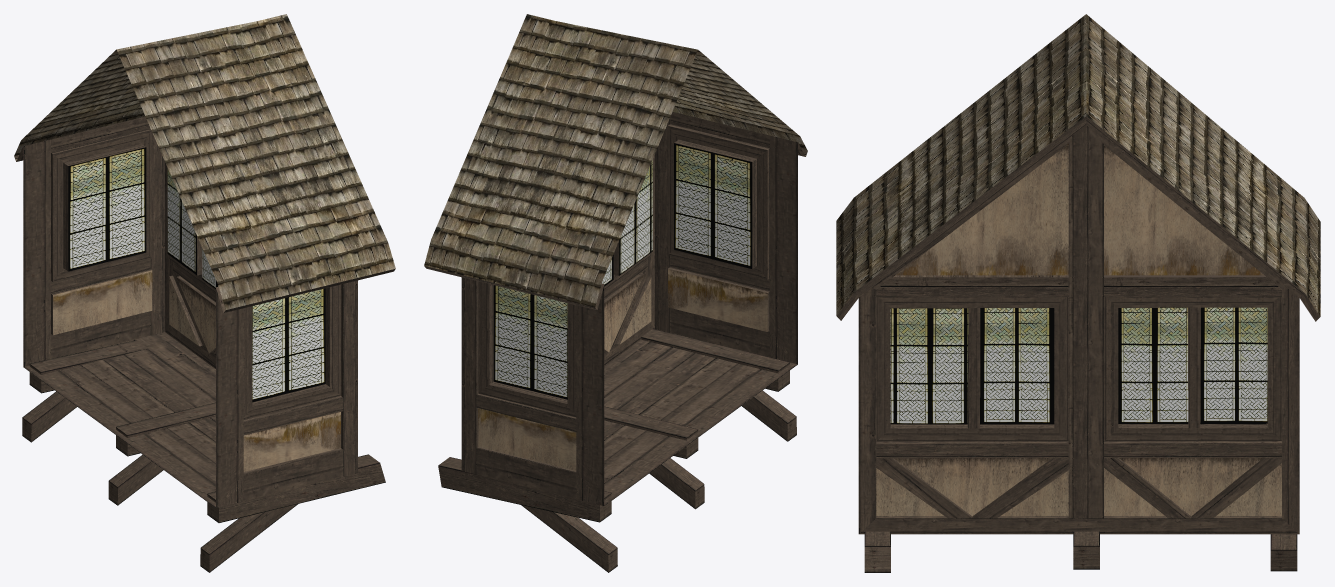
The model's file is f1_balcony03.dae.
3 views of the same model, side by side, from view 1: azimuth 30°, elevation 25°; view 2: azimuth 150°, elevation 25°; view 3: azimuth 270°, elevation 25° (orthographic). The views are drawn at different scales.
Parts seen in each view (by area): view 1: Default_Layer; view 2: Default_Layer; view 3: Default_Layer.
Part boxes in pixels (bbox=[...]): Default_Layer: bbox=[14, 14, 395, 572]; Default_Layer: bbox=[424, 14, 807, 572]; Default_Layer: bbox=[836, 14, 1320, 572].
Bounding box in the file's own units: 1.23 × 3.05 × 2.58.
